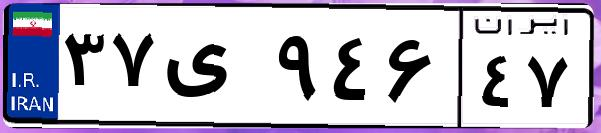3: (57, 26, 110, 100)
4: (330, 28, 385, 110), (475, 38, 525, 113)
6: (385, 28, 445, 110)
7: (525, 38, 570, 115), (110, 28, 158, 98)
9: (270, 28, 330, 110)
ی: (158, 20, 270, 120)
